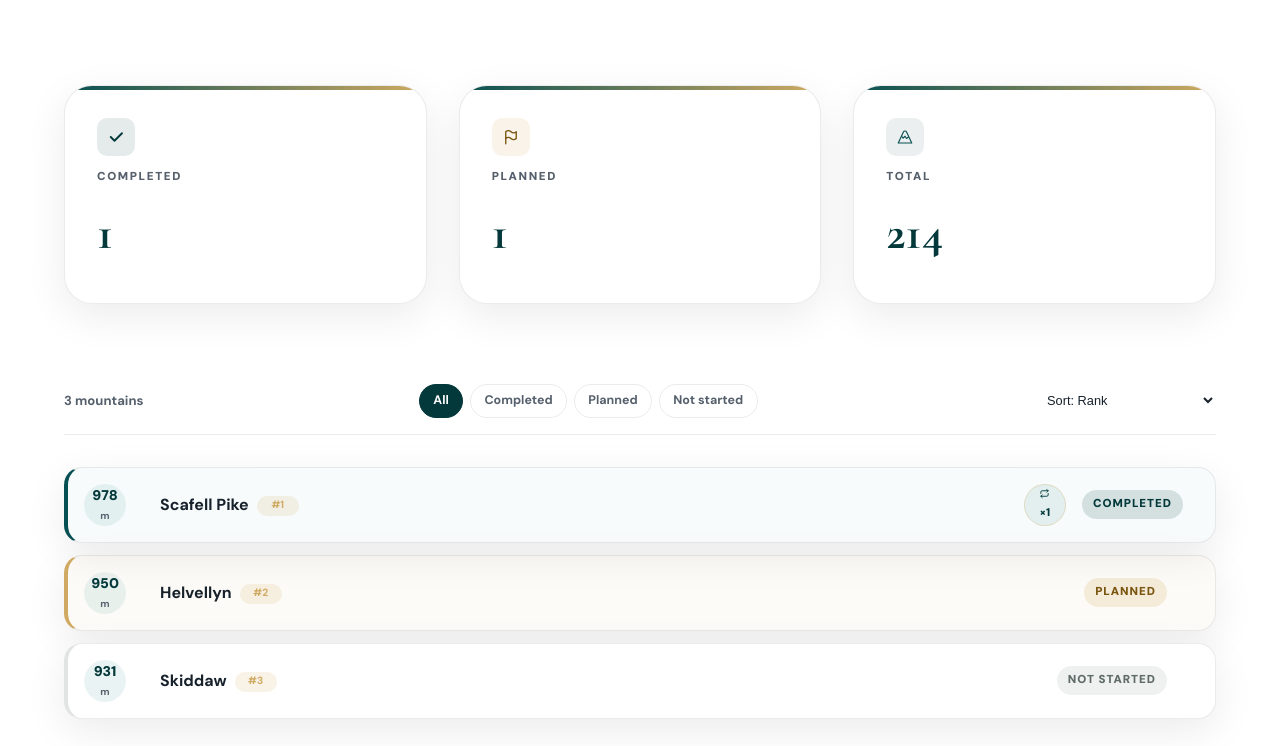
CollectionDetailPage — success state › filters to completed mountains only
(page scrolled)
Expected: the text "Scafell Pike" is shown, [160,494,249,515]
Click the button "Completed": (519, 401) [470,384,567,418]
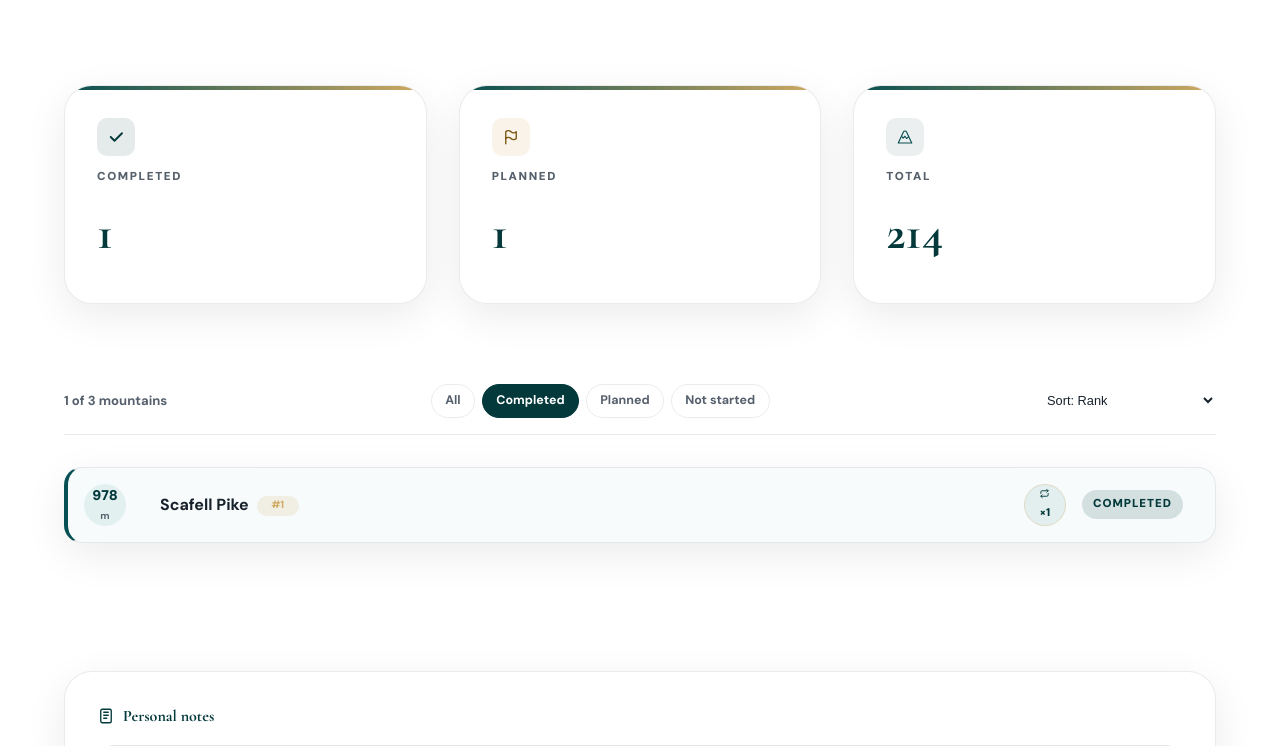
Expected: the text "Scafell Pike" is shown, [160,494,249,515]
Result: the link "Helvellyn" is gone
Result: the link "Skiddaw" is gone
